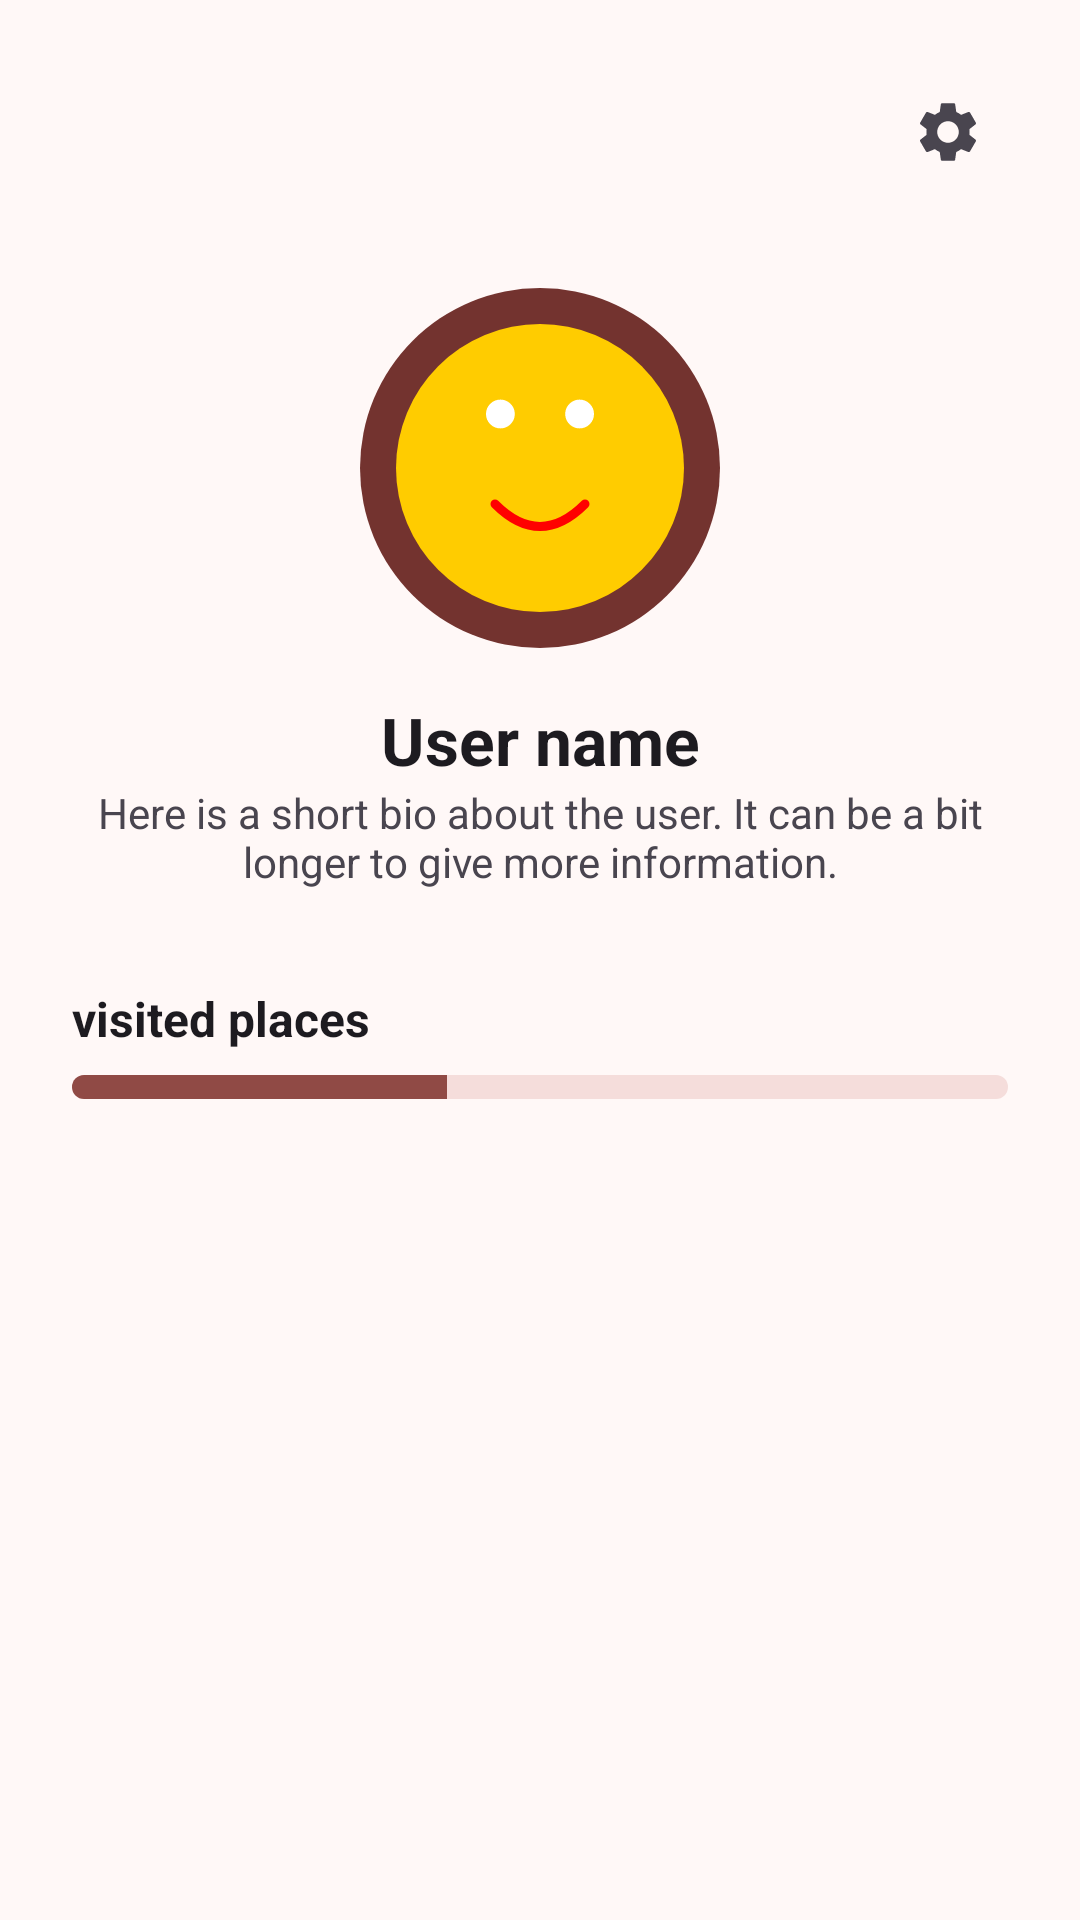

Point at icon controls on the screen. Image size 1080 x 1920, points as [x,y].
Go to Settings: [948,132]
profile picture: [540,468]
